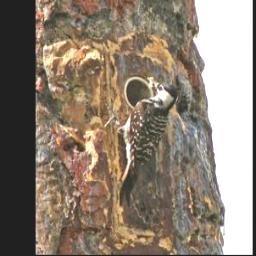Woodpecker: (104, 77, 179, 206)
